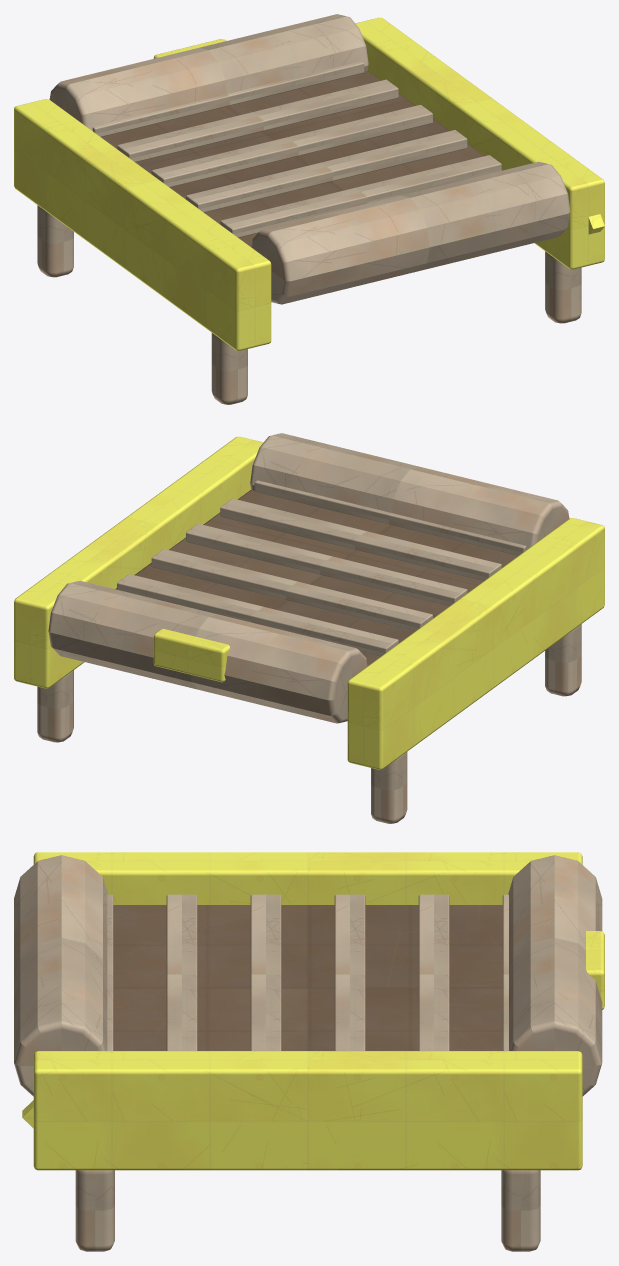
File: ff-belt.glb
3 renders of one model, top to bottom at view 1: azimuth 30°, elevation 25°; view 2: azimuth 150°, elevation 25°; view 3: azimuth 270°, elevation 25°, orthographic. The views are drawn at different scales.
Visible parts, largest first — view 1: RollerEnd, Rail, Bed, Leg, Leg.002, Leg.001; view 2: RollerEnd, Rail, Bed, Leg.001, Leg.003, Leg; view 3: Rail, RollerEnd, Bed, Leg.002, Leg.003.
Part boxes in pixels (<box>): RollerEnd: <box>49,14,570,304</box>; Rail: <box>14,17,604,350</box>; Bed: <box>101,71,503,246</box>; Leg: <box>211,333,247,404</box>; Leg.002: <box>545,251,581,323</box>; Leg.001: <box>37,205,73,277</box>; RollerEnd: <box>48,433,569,723</box>; Rail: <box>14,436,604,769</box>; Bed: <box>115,490,517,665</box>; Leg.001: <box>371,752,407,823</box>; Leg.003: <box>37,670,73,742</box>; Leg: <box>545,624,581,696</box>; Rail: <box>33,852,604,1170</box>; RollerEnd: <box>14,855,602,1096</box>; Bed: <box>113,905,502,1050</box>; Leg.002: <box>75,1170,114,1251</box>; Leg.003: <box>501,1170,540,1251</box>.
Bounding box in the file's own units: 0.93 × 0.415 × 1.05.
5 materials, 5 textured.
